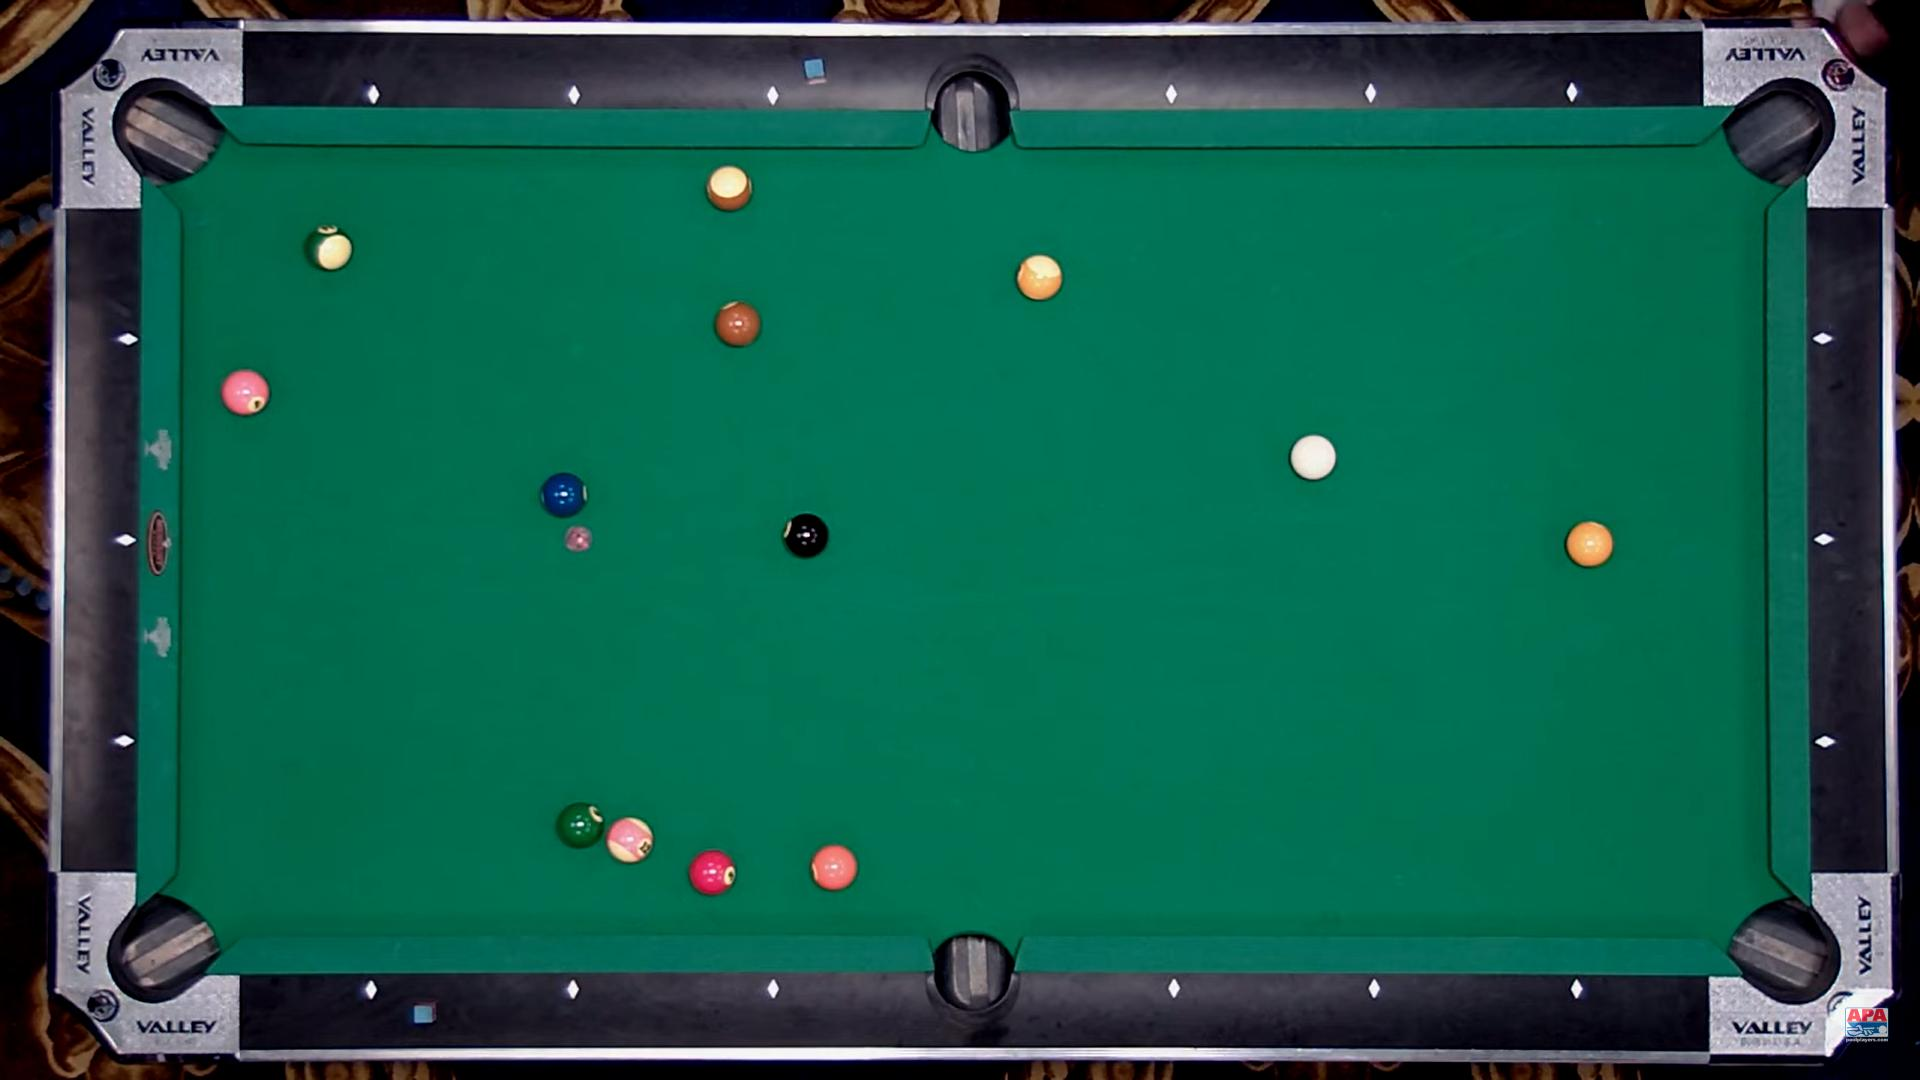Black: (782, 513, 828, 556)
Cue: (1291, 435, 1337, 483)
Dot: (119, 533, 133, 547), (1164, 87, 1179, 102), (1364, 87, 1378, 102), (1815, 331, 1829, 345), (1568, 982, 1582, 997), (564, 982, 579, 997), (368, 88, 381, 103), (567, 88, 580, 103), (766, 88, 779, 103), (1564, 86, 1577, 100), (1817, 736, 1832, 749), (1166, 982, 1180, 996), (766, 984, 781, 997), (116, 735, 129, 748), (123, 334, 136, 347), (1817, 533, 1830, 546), (1366, 982, 1379, 996), (361, 984, 375, 997)
Solid: (1567, 521, 1614, 567), (556, 803, 604, 849), (713, 301, 762, 345), (541, 472, 588, 517), (222, 371, 269, 415), (811, 845, 857, 890), (688, 851, 735, 895)
Striped: (306, 224, 355, 273), (707, 167, 753, 214), (607, 818, 653, 864), (1017, 256, 1063, 301)
